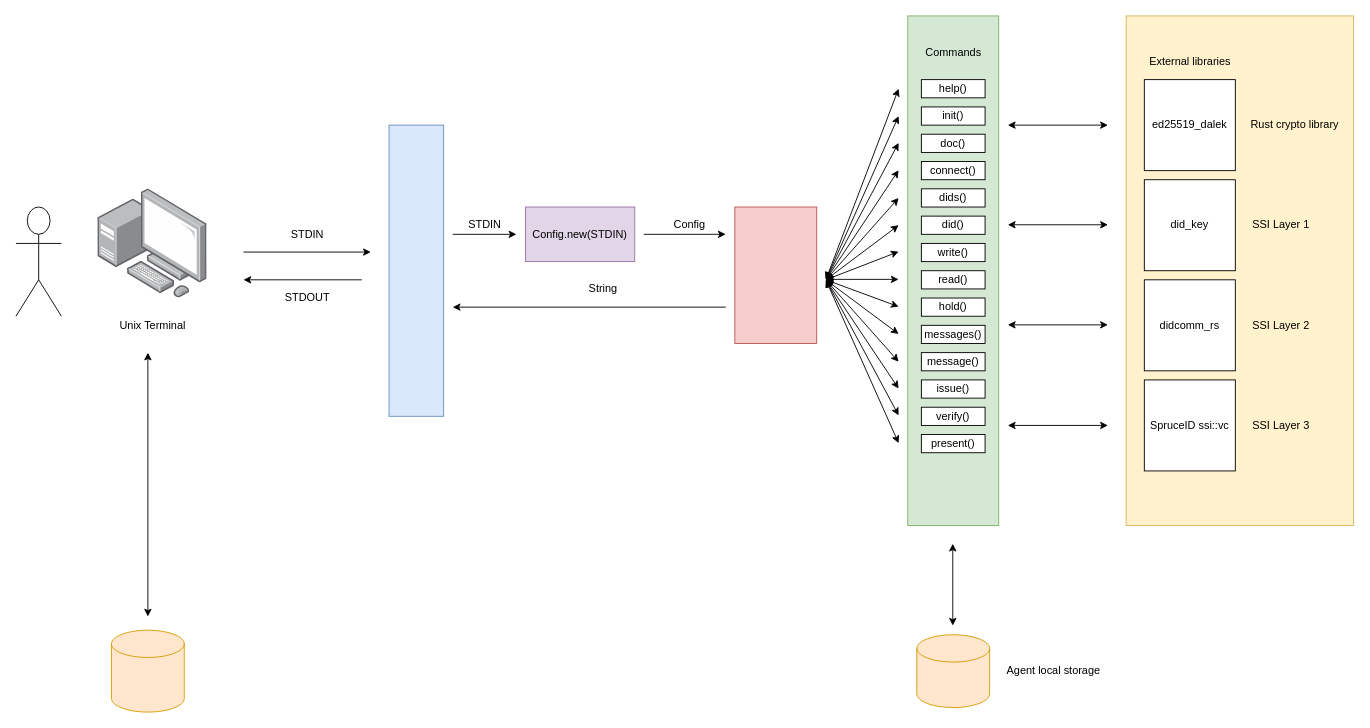
Image size: 1370x728. Some labels were removed from this diagram. Here are the shapes that lost their labels. From the top down, the centre of each, then its label:
At point (38, 261): "User".
At point (416, 270): "DID CLI".
At point (775, 275): "Run(Config)".
At point (147, 670): "Filesystem".
At point (953, 671): ".did/".
